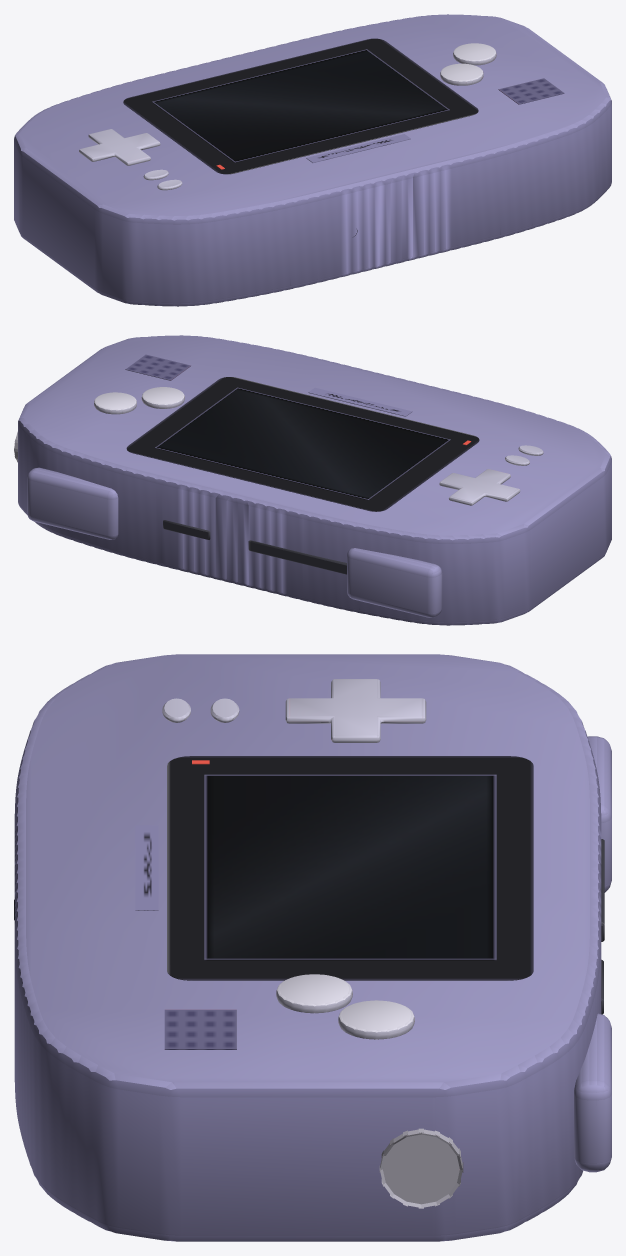
Rendered from gba.obj.
The picture shows the model from 3 angles, top to bottom: view 1: azimuth 30°, elevation 25°; view 2: azimuth 150°, elevation 25°; view 3: azimuth 270°, elevation 25°; orthographic projection. The views are drawn at different scales.
Visible parts, largest first — view 1: GBA_Export; view 2: GBA_Export; view 3: GBA_Export.
Part boxes in pixels (bbox=[...]): GBA_Export: bbox=[14, 14, 611, 306]; GBA_Export: bbox=[14, 335, 611, 625]; GBA_Export: bbox=[14, 654, 611, 1241].
Bounding box in the file's own units: 0.9508 × 0.1704 × 0.5448.
